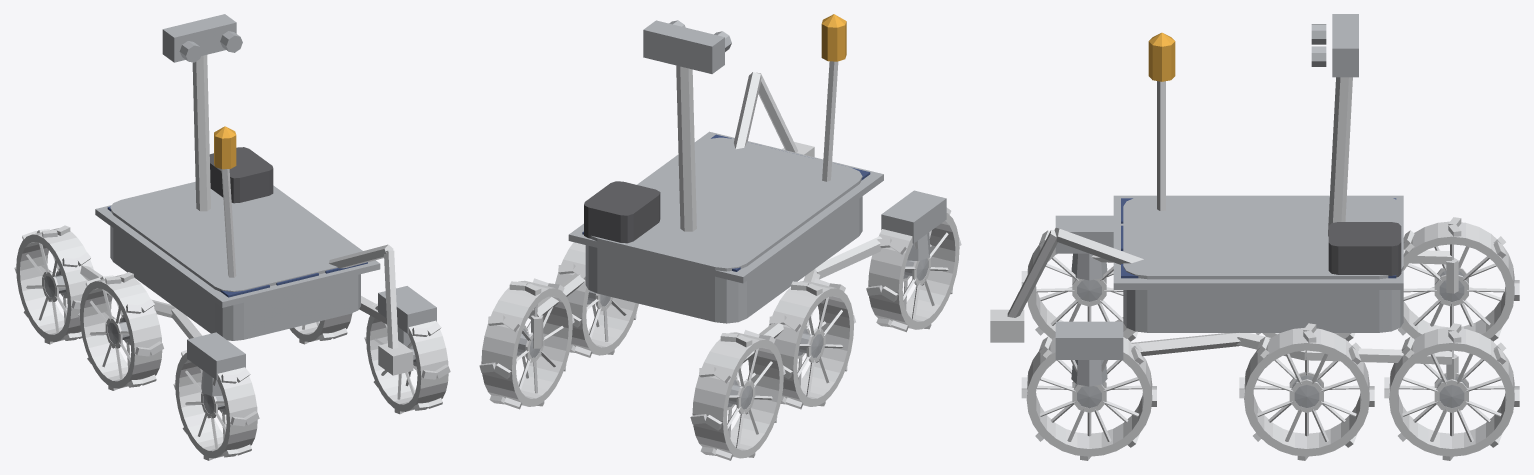
The model's file is mars-araci.glb.
3 views of the same model, side by side, from view 1: azimuth 30°, elevation 25°; view 2: azimuth 150°, elevation 25°; view 3: azimuth 270°, elevation 25° (orthographic). The views are drawn at different scales.
Visible parts, largest first — view 1: small-survey-rover, wheel-mid-left, wheel-rear-left, wheel-front-left, wheel-front-right, mast-head, arm-sampling, steer-front-left, steer-front-right, wheel-mid-right, rocker-left; view 2: small-survey-rover, wheel-rear-left, wheel-rear-right, wheel-mid-left, wheel-front-left, wheel-mid-right, mast-head, steer-front-left, arm-sampling, rocker-left, bogie-right; view 3: small-survey-rover, wheel-mid-right (×2), wheel-rear-right (×2), wheel-front-right, wheel-rear-left, steer-front-right, arm-sampling, wheel-front-left, mast-head, steer-front-left, rocker-right, bogie-right (+1 smaller).
Boxes of the visible parts, x1=… form: small-survey-rover: x1=95, y1=55, x2=380, y2=340; wheel-mid-left: x1=78, y1=272, x2=163, y2=390; wheel-rear-left: x1=14, y1=225, x2=93, y2=344; wheel-front-left: x1=173, y1=350, x2=259, y2=460; wheel-front-right: x1=364, y1=303, x2=450, y2=414; mast-head: x1=162, y1=14, x2=242, y2=62; arm-sampling: x1=328, y1=244, x2=413, y2=375; steer-front-left: x1=187, y1=332, x2=245, y2=396; steer-front-right: x1=378, y1=286, x2=436, y2=349; wheel-mid-right: x1=289, y1=313, x2=352, y2=344; rocker-left: x1=152, y1=300, x2=201, y2=338; small-survey-rover: x1=568, y1=14, x2=883, y2=323; wheel-rear-left: x1=690, y1=330, x2=785, y2=460; wheel-rear-right: x1=479, y1=278, x2=574, y2=409; wheel-mid-left: x1=768, y1=278, x2=855, y2=409; wheel-front-left: x1=866, y1=207, x2=961, y2=332; wheel-mid-right: x1=555, y1=242, x2=638, y2=357; mast-head: x1=643, y1=20, x2=731, y2=73; steer-front-left: x1=881, y1=190, x2=946, y2=260; arm-sampling: x1=734, y1=72, x2=814, y2=157; rocker-left: x1=803, y1=236, x2=881, y2=282; bogie-right: x1=528, y1=273, x2=584, y2=348; small-survey-rover: x1=1113, y1=32, x2=1403, y2=332; wheel-mid-right (×2): x1=1239, y1=323, x2=1374, y2=460; wheel-rear-right (×2): x1=1384, y1=323, x2=1519, y2=460; wheel-front-right: x1=1021, y1=336, x2=1156, y2=460; wheel-rear-left: x1=1397, y1=217, x2=1519, y2=350; steer-front-right: x1=1055, y1=321, x2=1123, y2=386; arm-sampling: x1=990, y1=227, x2=1143, y2=342; wheel-front-left: x1=1021, y1=230, x2=1137, y2=341; mast-head: x1=1311, y1=14, x2=1358, y2=77; steer-front-left: x1=1055, y1=215, x2=1113, y2=280; rocker-right: x1=1130, y1=333, x2=1306, y2=360; bogie-right: x1=1306, y1=348, x2=1458, y2=379.
Size of the model in its own units: 1.2 by 1.69 by 2.19.
